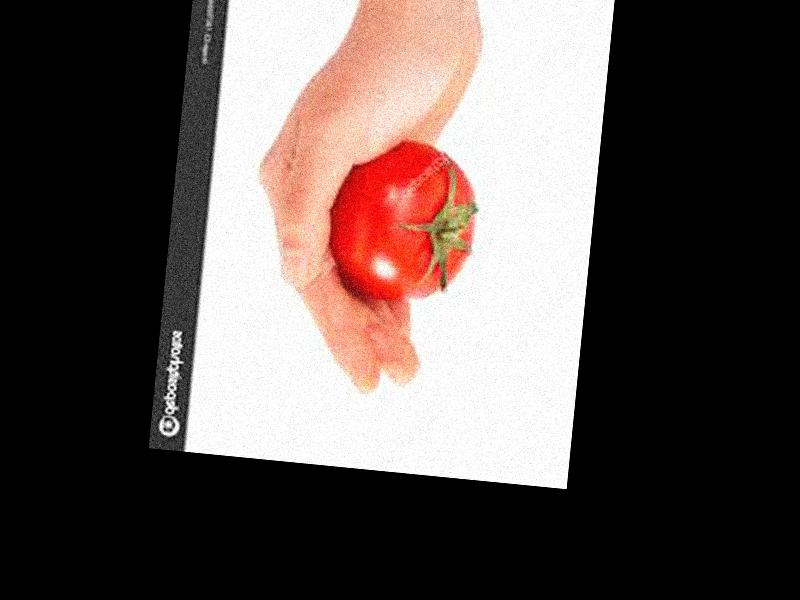Tomato: (326, 132, 481, 303)
